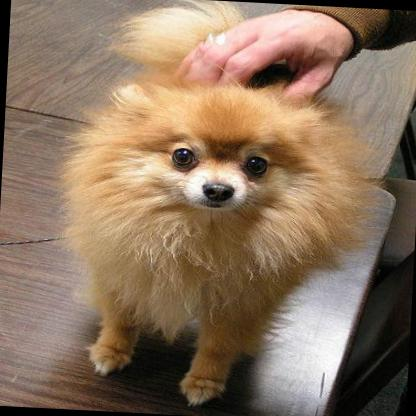Pomeranian: (50, 0, 377, 411)
